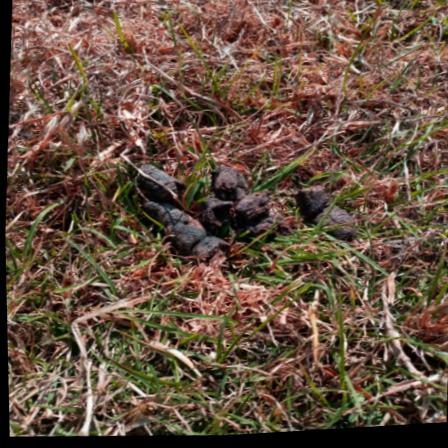dog-poop: (115, 150, 350, 289)
